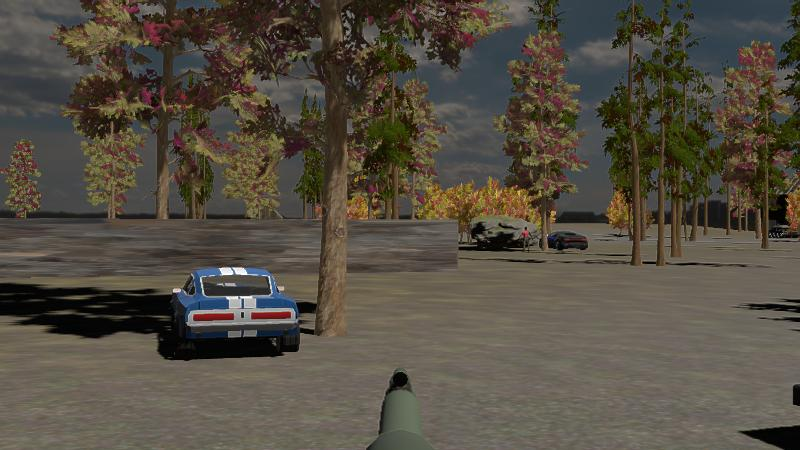Human: (519, 225, 532, 253)
car: (167, 263, 302, 354), (546, 230, 590, 252)
